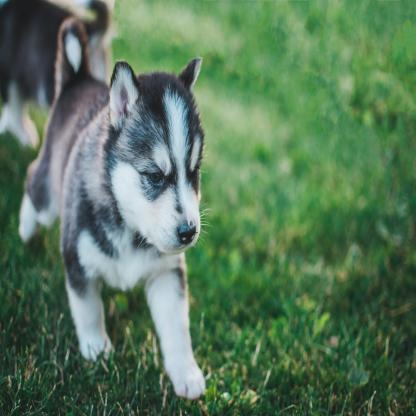husky: (20, 20, 208, 398), (0, 0, 115, 153)
